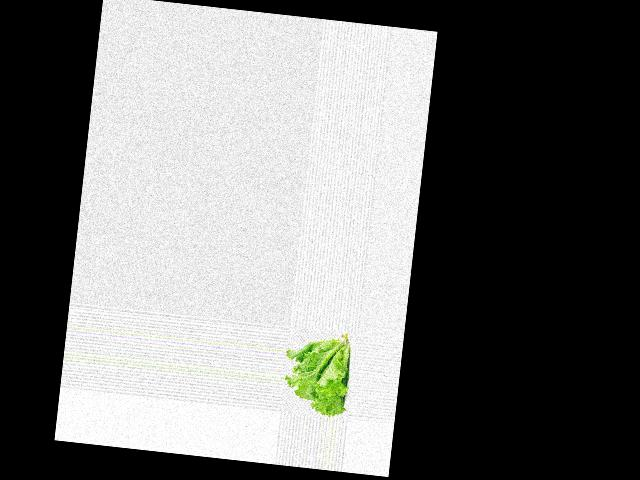lettuce: (280, 326, 352, 417)
